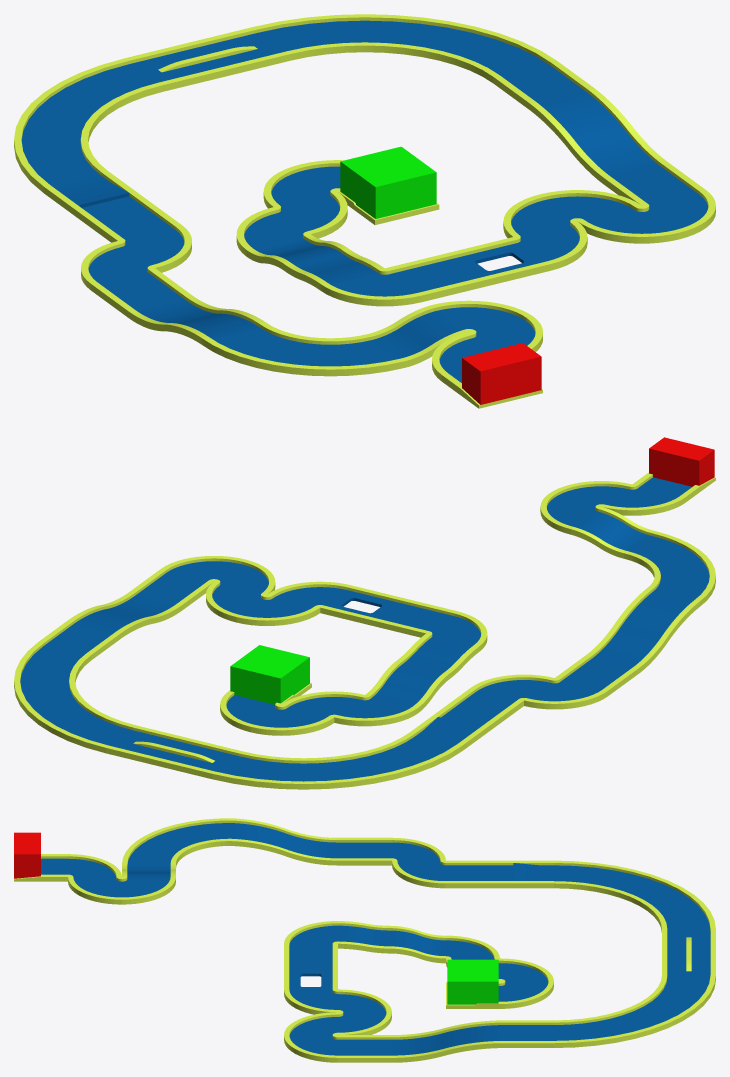
File: track3.glb
3 renders of one model, top to bottom at view 1: azimuth 30°, elevation 25°; view 2: azimuth 150°, elevation 25°; view 3: azimuth 270°, elevation 25°, orthographic. The views are drawn at different scales.
Parts seen in each view (by area): view 1: bend (×15), bend_larger% (×2), straight (×5), bend_large, slope_smoothC_long, straight_midEnd (×2), start_block, slope_smoothB (×2), finish_block, slope_smoothD_long, straight_slope, straight_hole (+3 smaller); view 2: bend (×15), bend_larger% (×2), straight (×5), slope_smoothD_long, slope_smoothB (×2), bend_large, straight_midEnd (×2), start_block, slope_smoothC_long, finish_block, slope_smoothA, straight_slope (+2 smaller); view 3: bend (×14), bend_larger% (×2), straight (×5), bend_large, slope_smoothD_long, slope_smoothC_long, straight_midEnd (×2), start_block, slope_smoothB (×2), straight_slope, slope_smoothA, finish_block (+2 smaller).
Part boxes in pixels (left/top/right/bottom): bend (×15): left=81, top=160, right=715, bottom=381; bend_larger% (×2): left=14, top=14, right=557, bottom=192; straight (×5): left=81, top=61, right=705, bottom=317; bend_large: left=202, top=322, right=404, bottom=376; slope_smoothC_long: left=530, top=88, right=668, bottom=184; straight_midEnd (×2): left=125, top=27, right=290, bottom=91; start_block: left=340, top=146, right=436, bottom=218; slope_smoothB (×2): left=246, top=234, right=468, bottom=367; finish_block: left=462, top=343, right=541, bottom=404; slope_smoothD_long: left=128, top=295, right=265, bottom=344; straight_slope: left=43, top=171, right=144, bottom=220; straight_hole: left=449, top=237, right=550, bottom=286; bend (×15): left=161, top=481, right=685, bottom=735; bend_larger% (×2): left=14, top=642, right=462, bottom=789; straight (×5): left=39, top=569, right=638, bottom=727; slope_smoothD_long: left=586, top=588, right=699, bottom=673; slope_smoothB (×2): left=365, top=507, right=654, bottom=712; bend_large: left=624, top=531, right=715, bottom=606; straight_midEnd (×2): left=106, top=725, right=241, bottom=778; start_block: left=230, top=645, right=309, bottom=704; slope_smoothC_long: left=69, top=591, right=183, bottom=637; finish_block: left=649, top=437, right=714, bottom=486; slope_smoothA: left=396, top=633, right=479, bottom=679; straight_slope: left=410, top=710, right=493, bottom=750; bend (×14): left=68, top=837, right=553, bottom=1062; bend_larger% (×2): left=554, top=860, right=715, bottom=1047; straight (×5): left=284, top=837, right=553, bottom=1062; bend_large: left=122, top=818, right=229, bottom=867; slope_smoothD_long: left=230, top=818, right=337, bottom=865; slope_smoothC_long: left=392, top=1020, right=499, bottom=1062; straight_midEnd (×2): left=662, top=929, right=715, bottom=977; start_block: left=447, top=959, right=498, bottom=1004; slope_smoothB (×2): left=122, top=864, right=445, bottom=963; straight_slope: left=500, top=860, right=553, bottom=888; slope_smoothA: left=338, top=921, right=391, bottom=953; finish_block: left=14, top=832, right=40, bottom=878.
Bounding box in the file's own units: 18 × 3.5 × 26.
